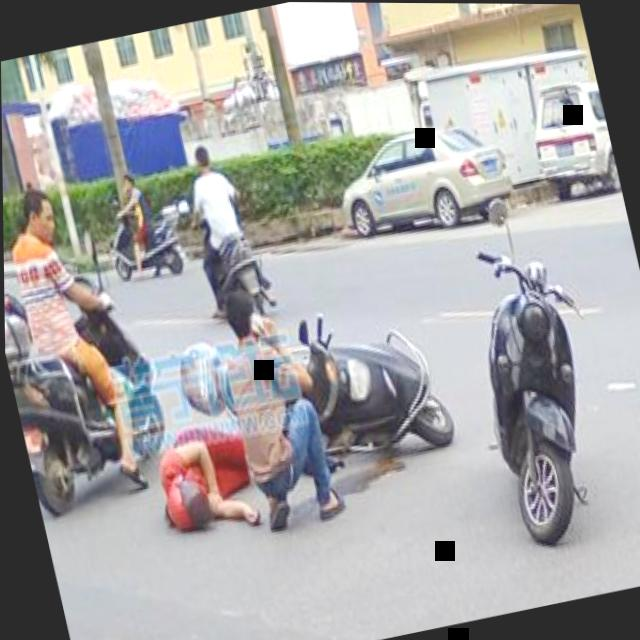Fall-Detected: (135, 411, 264, 552)
